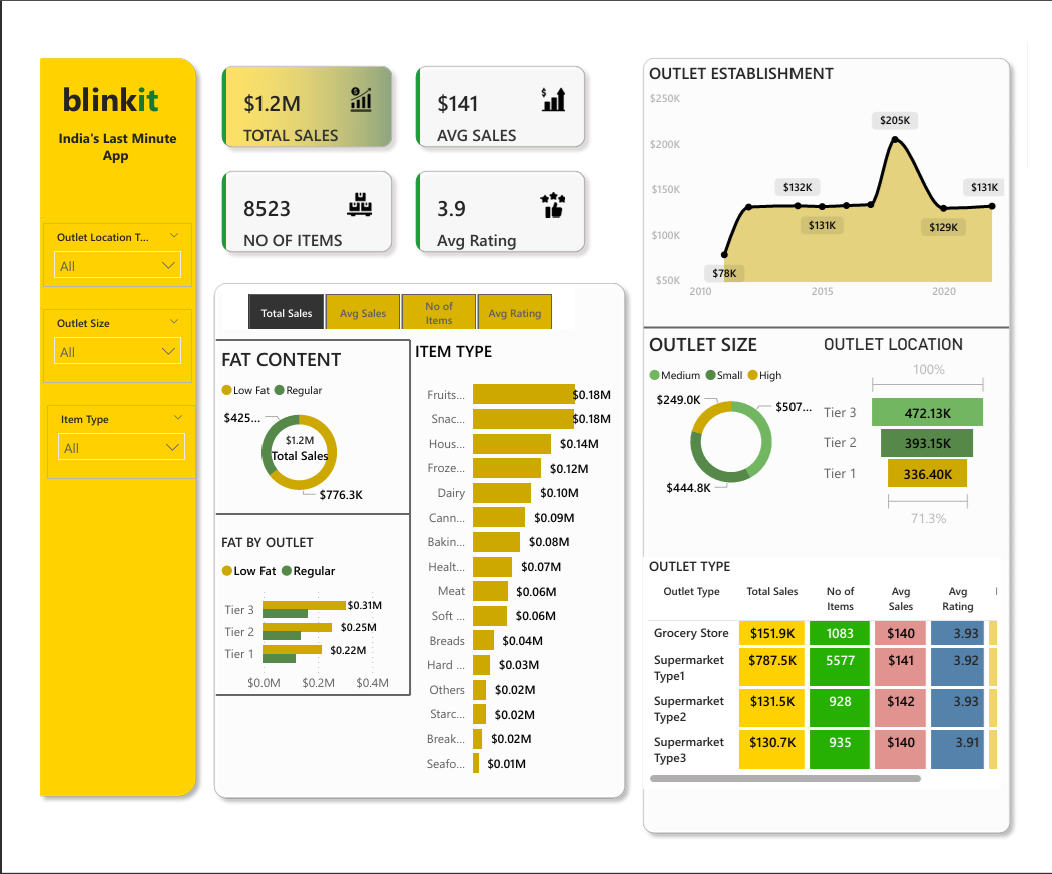

The page's visual inventory and layout, read from the dashboard file:
{"tool":"powerbi","page":{"name":"Page 1","canvas":[1000,1100],"ordinal":0},"visuals":[{"type":"shape","box":[5,42,174,756],"z":0},{"type":"textbox","box":[28,64,112,60],"z":1000},{"type":"textbox","box":[14,116,157,45],"z":2000},{"type":"cardVisual","fields":{"Data":["BlinkIT Grocery Data.Total Sales","BlinkIT Grocery Data.Avg Sales","BlinkIT Grocery Data.No of Items","BlinkIT Grocery Data.Avg Rating"]},"box":[179,42,396,221],"z":3000},{"type":"shape","box":[179,267,428,533],"z":4000},{"type":"donutChart","title":"FAT CONTENT","fields":{"Y":["BlinkIT Grocery Data.Total Sales"],"Category":["BlinkIT Grocery Data.Item Fat Content"]},"box":[190,339,165,162],"z":5000},{"type":"slicer","fields":{"Values":["Metrics.Metrics"]},"box":[197,280,352,41],"z":6000},{"type":"cardVisual","fields":{"Data":["BlinkIT Grocery Data.Total Sales"]},"box":[226,409,94,52],"z":7000},{"type":"clusteredBarChart","title":"FAT BY OUTLET","fields":{"Y":["BlinkIT Grocery Data.Total Sales"],"Category":["BlinkIT Grocery Data.Outlet Location Type"],"Series":["BlinkIT Grocery Data.Item Fat Content"]},"box":[190,526,187,168],"z":8000},{"type":"shape","box":[190,501,193,12],"z":9000},{"type":"shape","box":[377,333,12,355],"z":10000},{"type":"shape","box":[190,327,193,12],"z":11000},{"type":"shape","box":[190,682,193,12],"z":12000},{"type":"barChart","title":"ITEM TYPE","fields":{"Y":["BlinkIT Grocery Data.Total Sales"],"Category":["BlinkIT Grocery Data.Item Type"]},"box":[383,333,206,448],"z":13000},{"type":"shape","box":[607,42,384,793],"z":14000},{"type":"lineChart","title":"OUTLET ESTABLISHMENT","fields":{"Y":["BlinkIT Grocery Data.Total Sales"],"Category":["BlinkIT Grocery Data.Outlet Establishment Year"]},"box":[617,55,364,246],"z":15000},{"type":"shape","box":[617,313,364,15],"z":16000},{"type":"donutChart","title":"OUTLET SIZE","fields":{"Y":["BlinkIT Grocery Data.Total Sales"],"Category":["BlinkIT Grocery Data.Outlet Size"]},"box":[617,324,174,171],"z":17000},{"type":"funnel","title":"OUTLET LOCATION","fields":{"Y":["Sum(BlinkIT Grocery Data.Sales)"],"Category":["BlinkIT Grocery Data.Outlet Location Type"]},"box":[791,327,174,199],"z":18000},{"type":"pivotTable","title":"OUTLET TYPE","fields":{"Rows":["BlinkIT Grocery Data.Outlet Type"],"Values":["BlinkIT Grocery Data.Total Sales","BlinkIT Grocery Data.No of Items","BlinkIT Grocery Data.Avg Sales","BlinkIT Grocery Data.Avg Rating","Avg(BlinkIT Grocery Data.Item Visibility)"]},"box":[617,550,357,231],"z":19000},{"type":"slicer","fields":{"Values":["BlinkIT Grocery Data.Outlet Location Type"]},"box":[17,216,149,64],"z":20000},{"type":"slicer","fields":{"Values":["BlinkIT Grocery Data.Outlet Size"]},"box":[17,302,149,74],"z":21000},{"type":"slicer","fields":{"Values":["BlinkIT Grocery Data.Item Type"]},"box":[21,398,149,74],"z":22000},{"type":"textbox","box":[17,178,141,28],"z":23000}]}

Visuals, with their boxes on the page's 1000x1100 design canvas (x1, y1, x2, y2). These are canvas units, not pixel positions in the 1052x874 screenshot, which may show the page scaled, cropped or inside an application window:
shape: bbox=[5, 42, 179, 798]
textbox: bbox=[28, 64, 140, 124]
textbox: bbox=[14, 116, 171, 161]
cardVisual - BlinkIT Grocery Data.Total Sales x BlinkIT Grocery Data.Avg Sales: bbox=[179, 42, 575, 263]
shape: bbox=[179, 267, 607, 800]
"FAT CONTENT" donutChart: bbox=[190, 339, 355, 501]
slicer - Metrics.Metrics: bbox=[197, 280, 549, 321]
cardVisual - BlinkIT Grocery Data.Total Sales: bbox=[226, 409, 320, 461]
"FAT BY OUTLET" clusteredBarChart: bbox=[190, 526, 377, 694]
shape: bbox=[190, 501, 383, 513]
shape: bbox=[377, 333, 389, 688]
shape: bbox=[190, 327, 383, 339]
shape: bbox=[190, 682, 383, 694]
"ITEM TYPE" barChart: bbox=[383, 333, 589, 781]
shape: bbox=[607, 42, 991, 835]
"OUTLET ESTABLISHMENT" lineChart: bbox=[617, 55, 981, 301]
shape: bbox=[617, 313, 981, 328]
"OUTLET SIZE" donutChart: bbox=[617, 324, 791, 495]
"OUTLET LOCATION" funnel: bbox=[791, 327, 965, 526]
"OUTLET TYPE" pivotTable: bbox=[617, 550, 974, 781]
slicer - BlinkIT Grocery Data.Outlet Location Type: bbox=[17, 216, 166, 280]
slicer - BlinkIT Grocery Data.Outlet Size: bbox=[17, 302, 166, 376]
slicer - BlinkIT Grocery Data.Item Type: bbox=[21, 398, 170, 472]
textbox: bbox=[17, 178, 158, 206]
